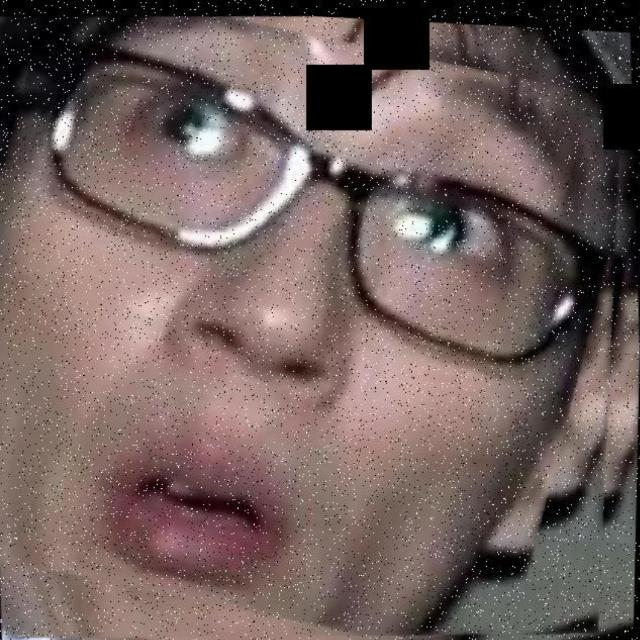Surprised: (48, 5, 588, 640)
